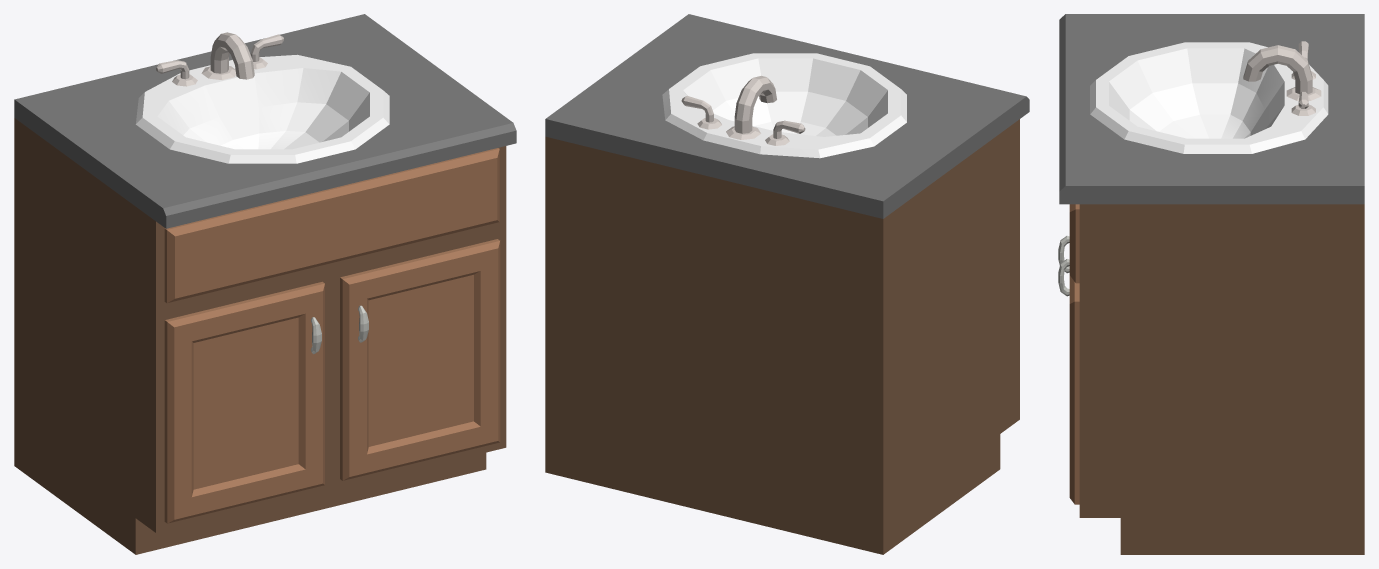
The model's file is Structure_Bathroom_Cabinet_Sink.obj.
3 renders of one model, left to right at view 1: azimuth 30°, elevation 25°; view 2: azimuth 150°, elevation 25°; view 3: azimuth 270°, elevation 25°, orthographic. The views are drawn at different scales.
Visible parts, largest first — view 1: object5, object3, object6, object1, object10, object9; view 2: object5, object3, object10, object9; view 3: object5, object3, object10, object1, object9.
Part boxes in pixels (x1,y1,x2,y2): object5: (14,118,506,554); object3: (14,14,516,228); object6: (164,281,324,523); object1: (340,239,500,480); object10: (135,54,389,163); object9: (201,32,254,80); object5: (545,119,1019,554); object3: (545,14,1029,218); object10: (662,53,906,158); object9: (726,75,776,139); object5: (1069,204,1364,554); object3: (1059,14,1364,204); object10: (1090,42,1328,153); object1: (1069,275,1079,504); object9: (1243,45,1321,100).
Bounding box in the file's own units: 1 × 1.14 × 0.7531.
